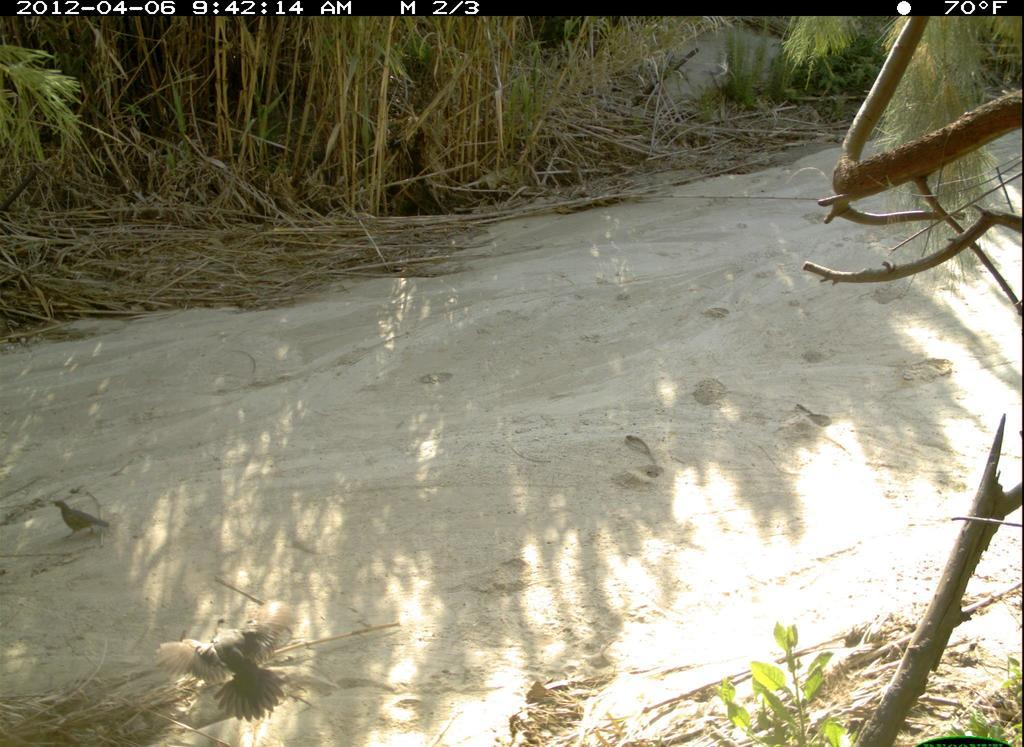bird: (143, 597, 331, 730), (50, 491, 112, 553)
